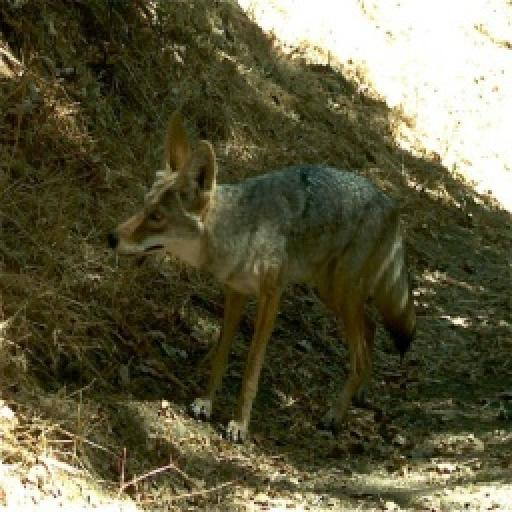zorro: (108, 112, 414, 440)
